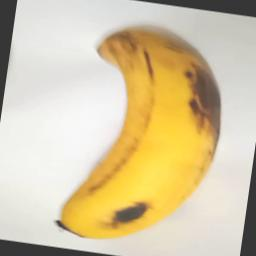Banana Unripe: (65, 24, 233, 250)
